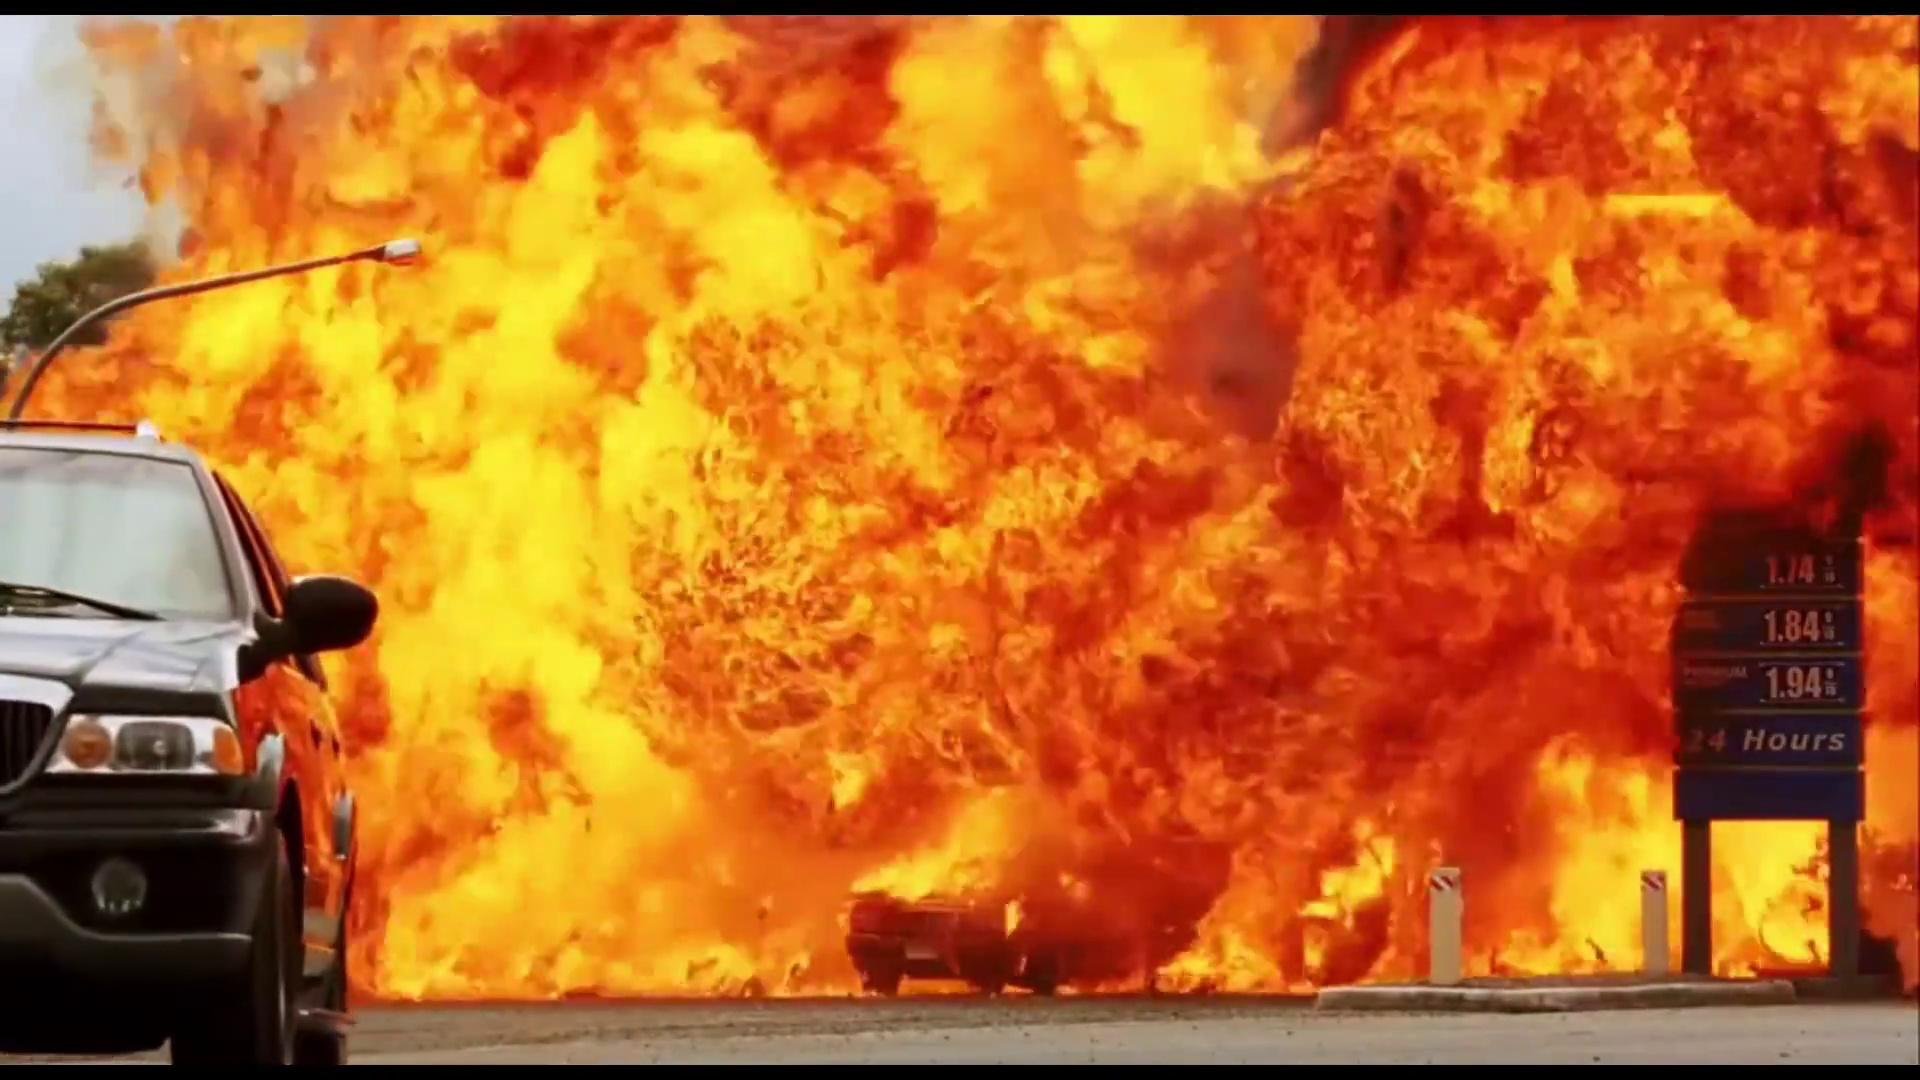fire: (7, 13, 1905, 988)
